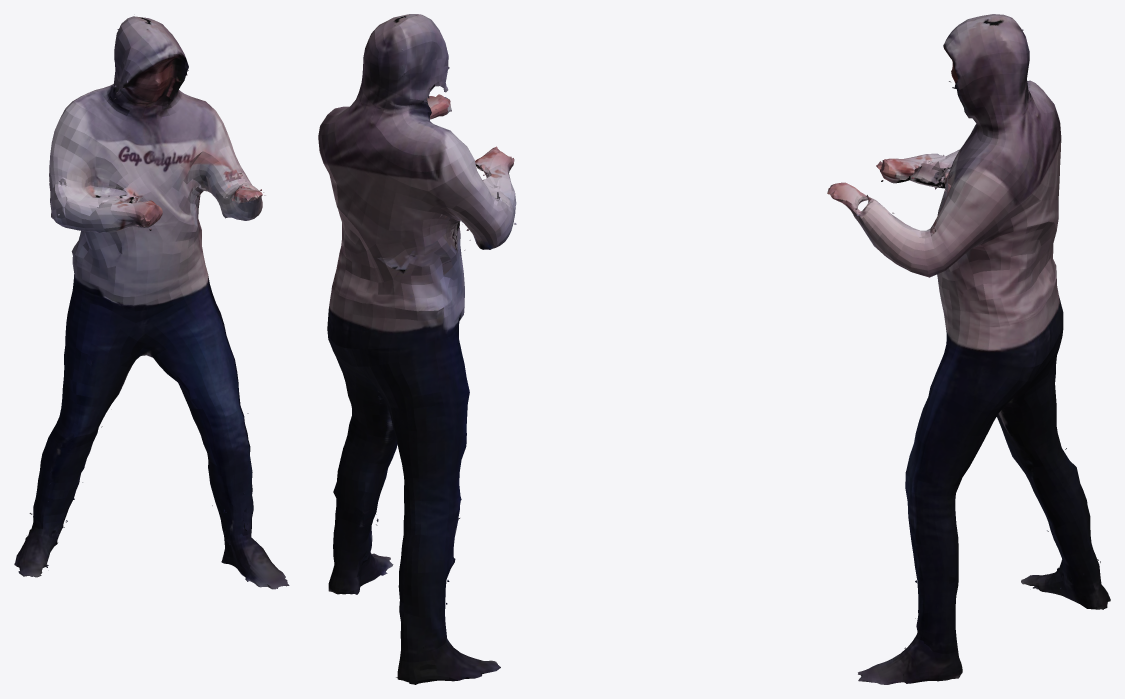
The model's file is AB-2punch_0000047.obj.
3 renders of one model, left to right at view 1: azimuth 30°, elevation 25°; view 2: azimuth 150°, elevation 25°; view 3: azimuth 270°, elevation 25°, orthographic. The views are drawn at different scales.
Visible parts, largest first — view 1: Retopo_frame_0000047_mesh; view 2: Retopo_frame_0000047_mesh; view 3: Retopo_frame_0000047_mesh.
Part boxes in pixels (bbox=[...]): Retopo_frame_0000047_mesh: bbox=[14, 16, 289, 589]; Retopo_frame_0000047_mesh: bbox=[318, 14, 516, 684]; Retopo_frame_0000047_mesh: bbox=[827, 14, 1110, 684].
Size of the model in its own units: 0.6737 by 1.78 by 1.16.
Materials: 1 (1 with a texture image).
